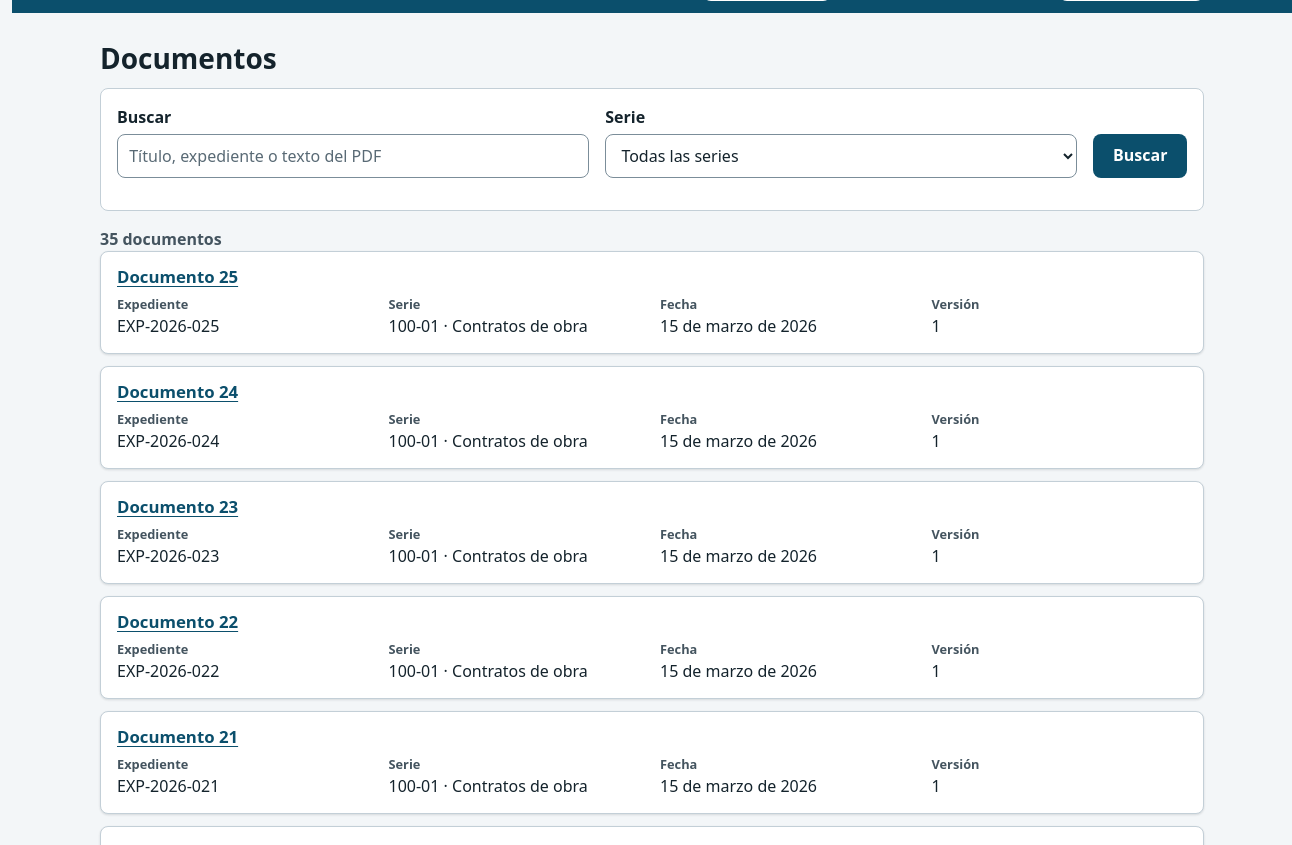
Test: listado de documentos › filtro por serie › al elegir una subserie pide serieId, vuelve a la página 1 y lo deja en la URL
Select "100-02 · Interventoría" in the dropdown labelled "Serie": (841, 156) [605, 134, 1077, 178]
(page scrolled)
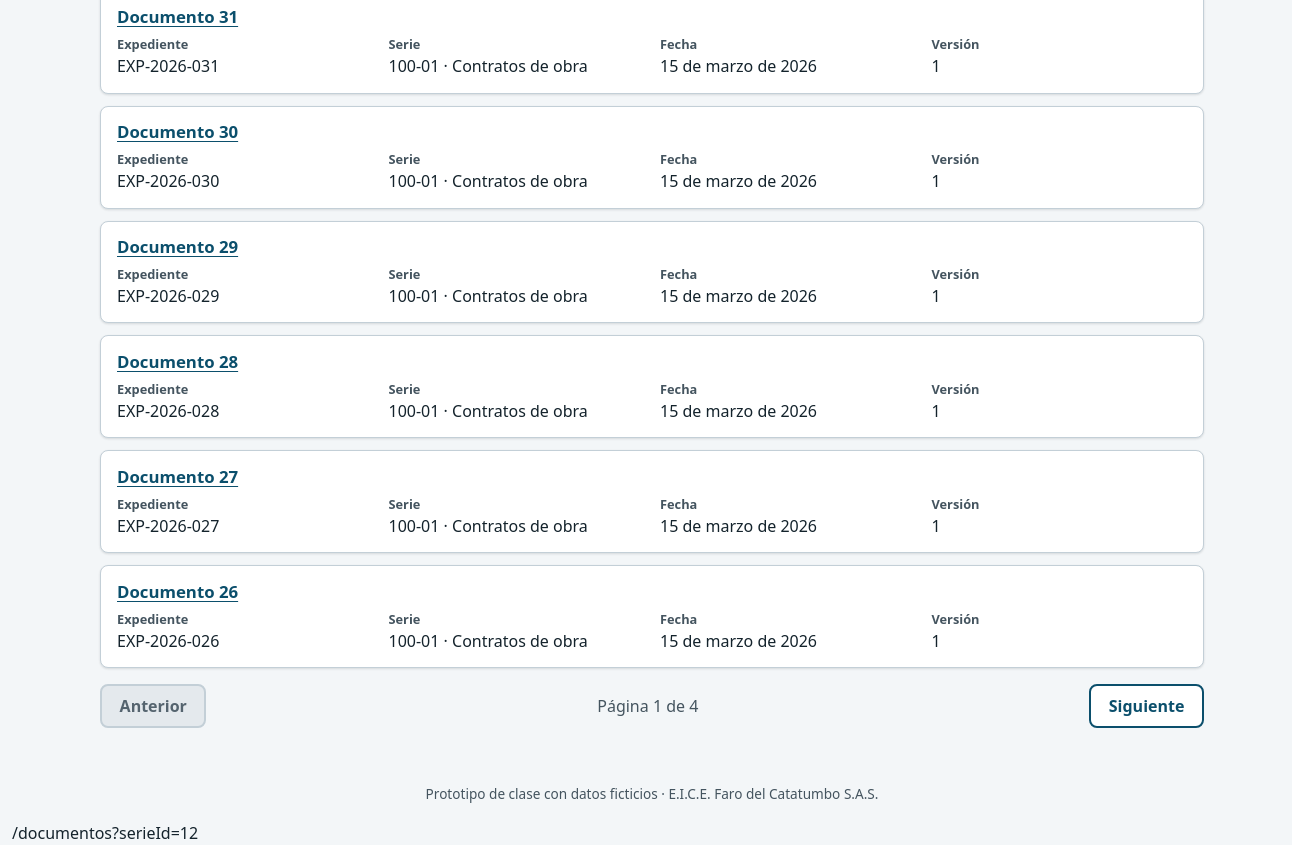
Expected: the text with test id "ubicacion" reads "/documentos?serieId=12", [12, 822, 198, 844]
